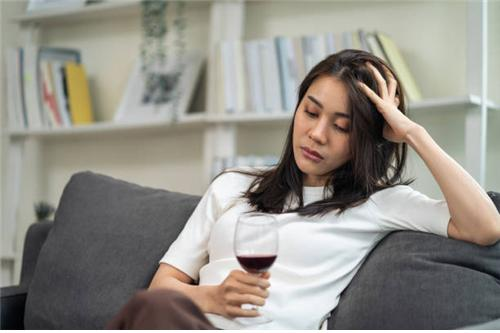alcohol: (231, 211, 282, 324)
